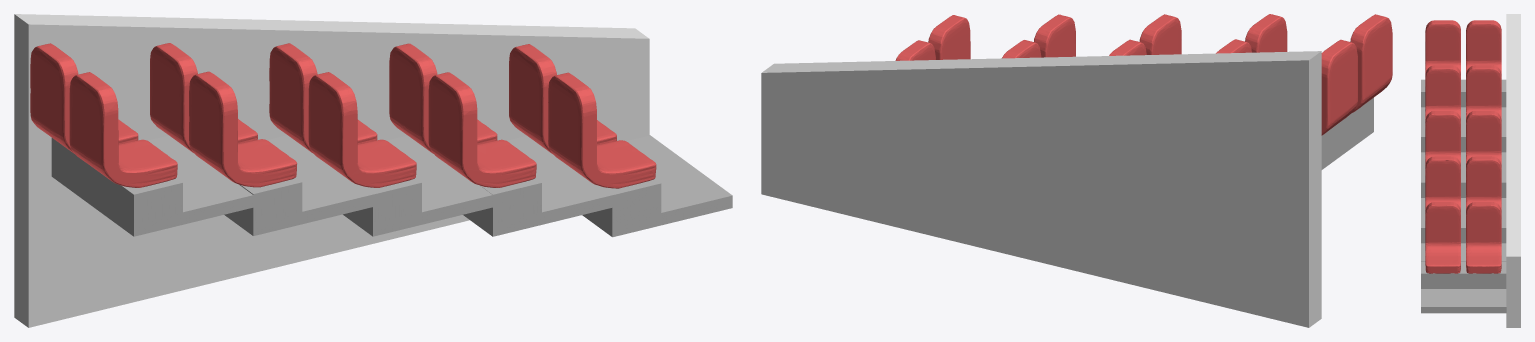
The model's file is Bleacher Right End.fbx.
3 views of the same model, side by side, from view 1: azimuth 30°, elevation 25°; view 2: azimuth 150°, elevation 25°; view 3: azimuth 270°, elevation 25° (orthographic). The views are drawn at different scales.
Visible parts, largest first — view 1: Bleacher_Right_End Low Poly; view 2: Bleacher_Right_End Low Poly; view 3: Bleacher_Right_End Low Poly.
Part boxes in pixels (bbox=[...]): Bleacher_Right_End Low Poly: bbox=[14, 14, 732, 327]; Bleacher_Right_End Low Poly: bbox=[761, 14, 1392, 327]; Bleacher_Right_End Low Poly: bbox=[1421, 14, 1520, 327].
Size of the model in its own units: 12.77 by 5.92 by 3.42.
